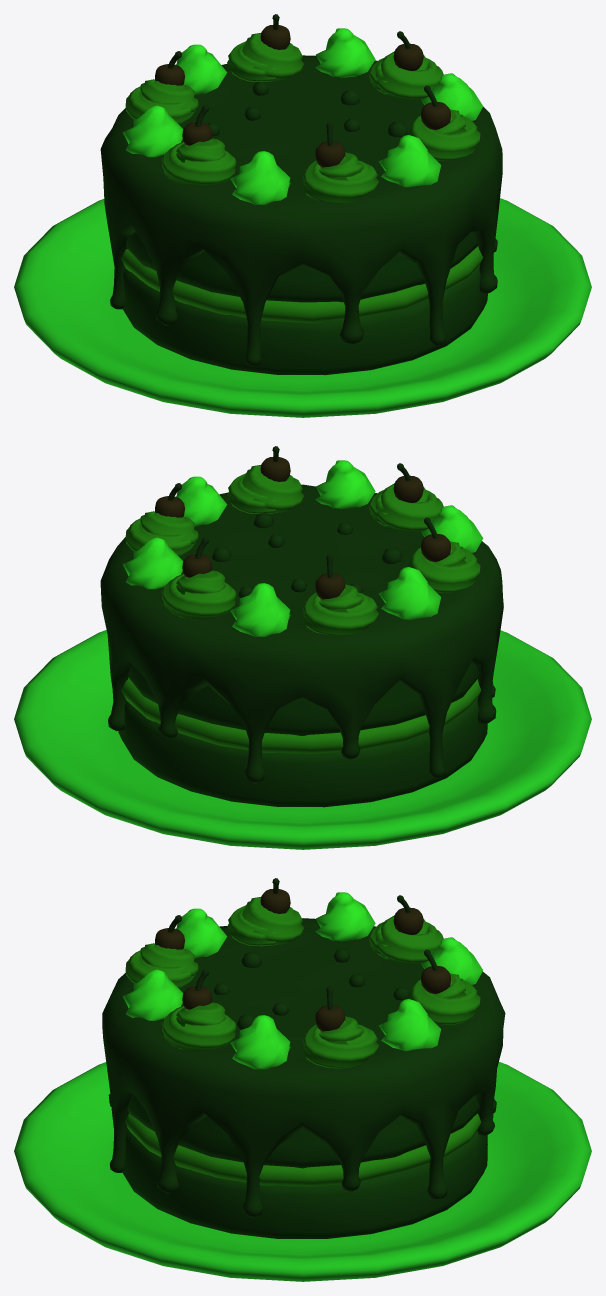
The model's file is bolo.glb.
3 renders of one model, top to bottom at view 1: azimuth 30°, elevation 25°; view 2: azimuth 150°, elevation 25°; view 3: azimuth 270°, elevation 25°, orthographic.
Visible parts, largest first — view 1: Cake; view 2: Cake; view 3: Cake.
Part boxes in pixels (x1,y1,x2,y2): Cake: [14, 14, 591, 417]; Cake: [14, 446, 591, 849]; Cake: [14, 878, 591, 1281].
Bounding box in the file's own units: 0.8483 × 0.412 × 0.8483.
1 material, 1 textured.
